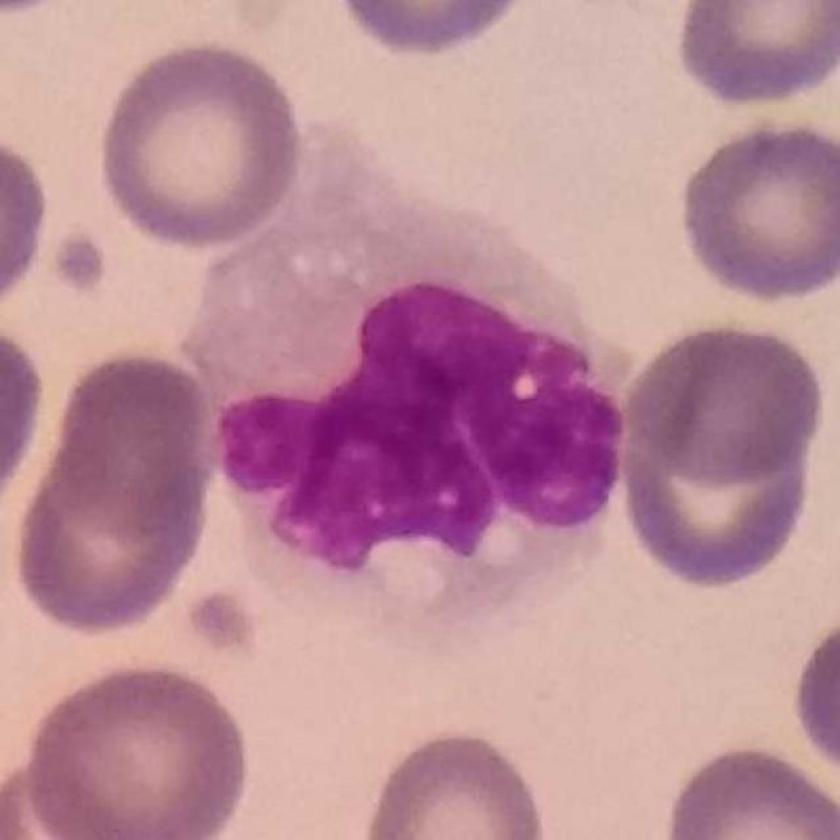monocyte: (174, 117, 656, 651)
